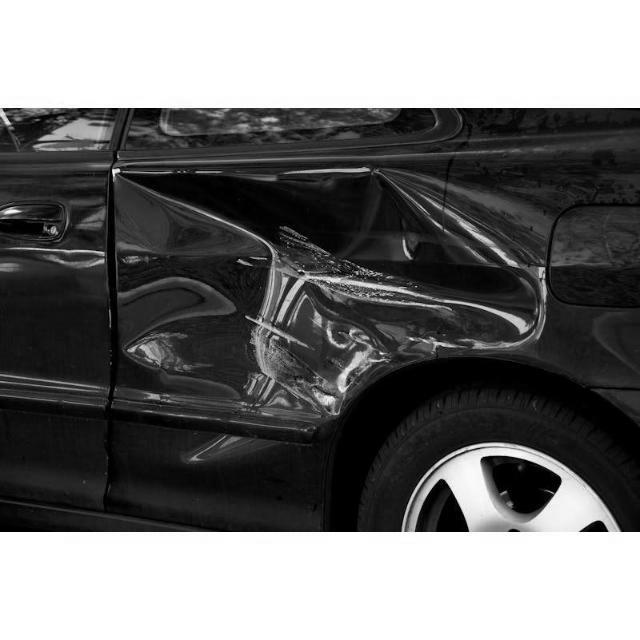doorouter-dent: (107, 155, 420, 432)
quaterpanel-dent: (441, 155, 639, 421)
